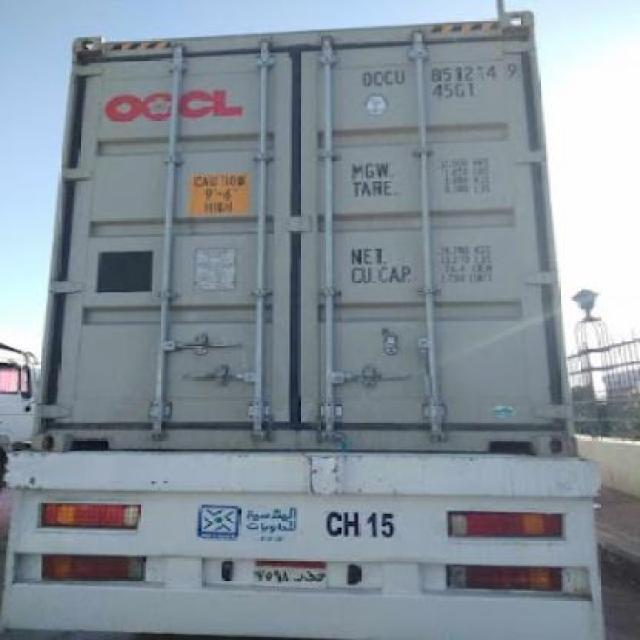ISO: (426, 84, 480, 101)
container_number: (347, 60, 526, 84)
